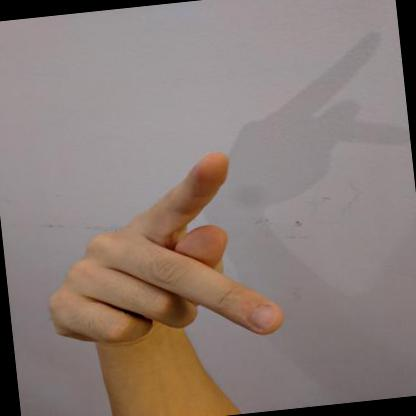P: (47, 151, 283, 355)
